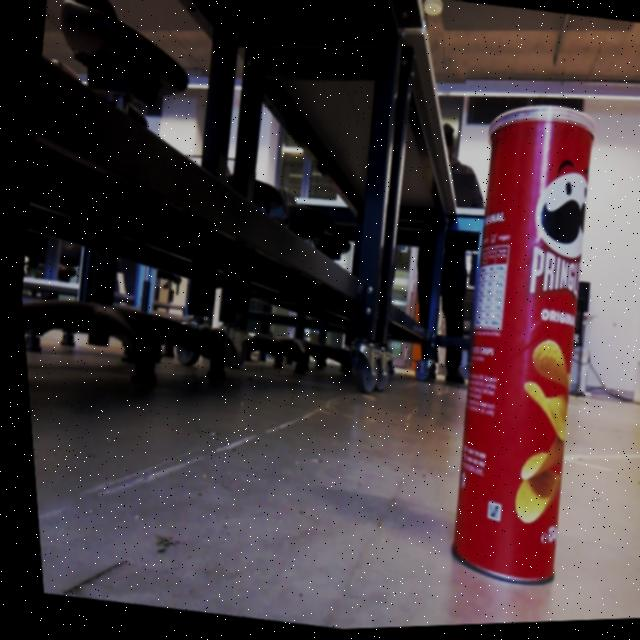redpringles: (386, 94, 628, 626)
